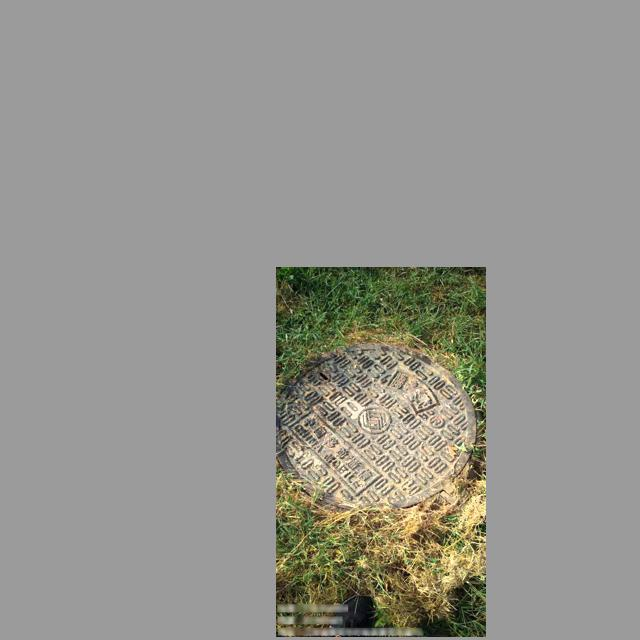good: (279, 343, 477, 511)
